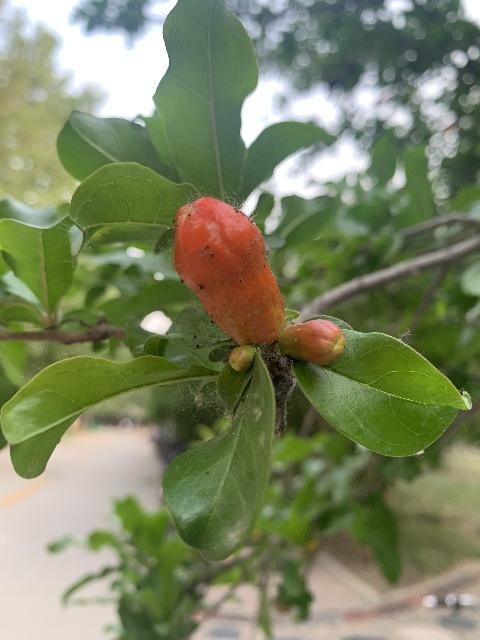bud: (172, 196, 284, 346), (279, 319, 345, 366), (229, 344, 256, 371)
